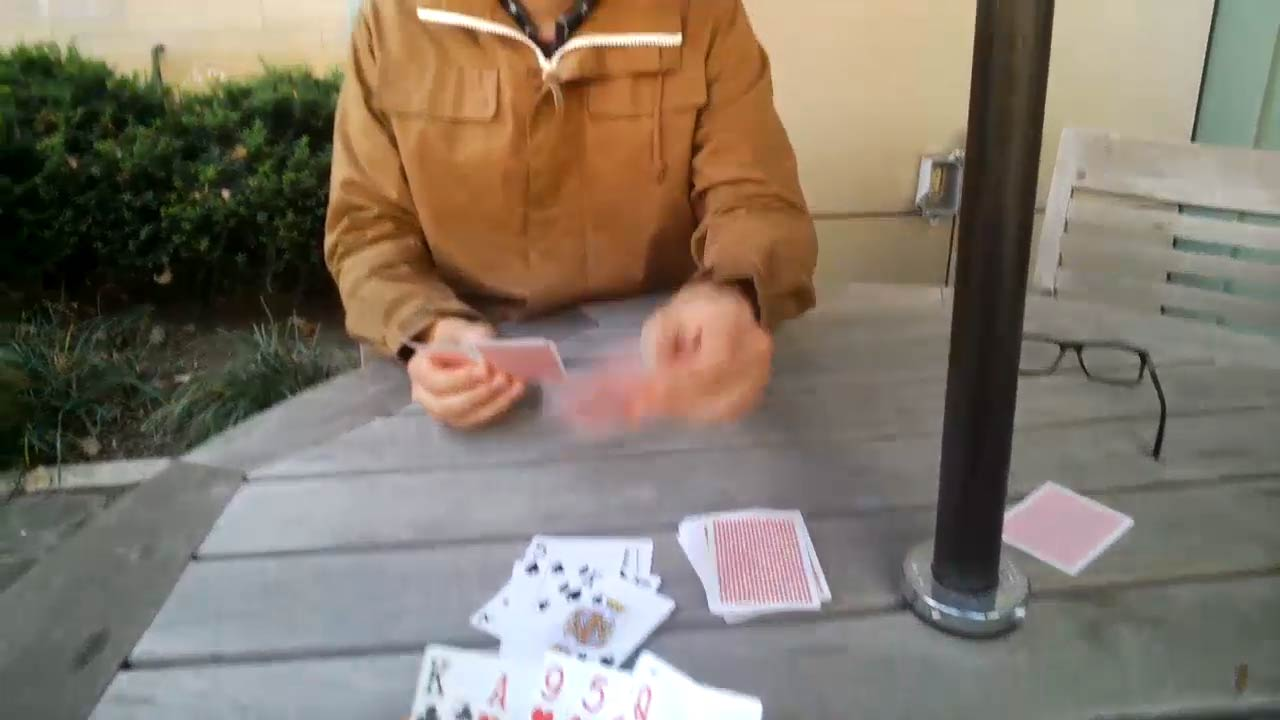hand: (640, 296, 773, 416), (402, 328, 527, 430)
